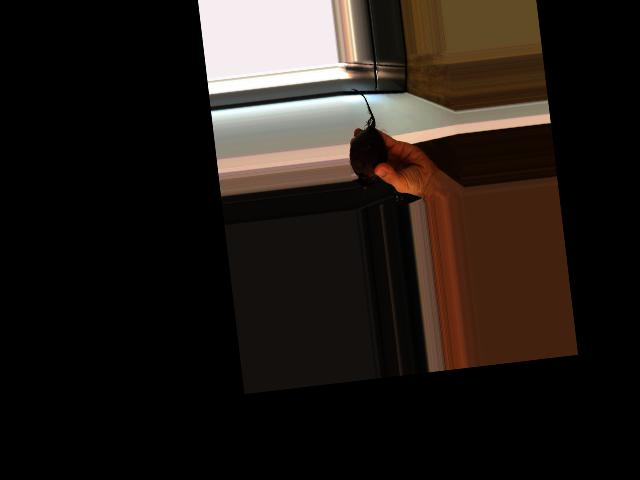beet: (341, 85, 391, 193)
